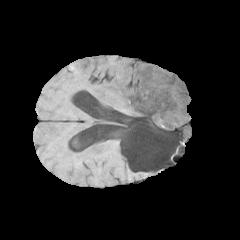glioma: (101, 63, 189, 168)
